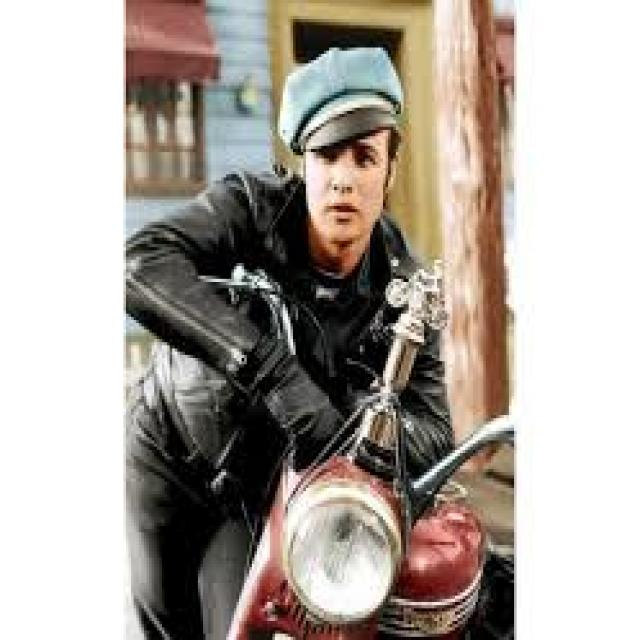Jacket: (170, 132, 410, 554)
